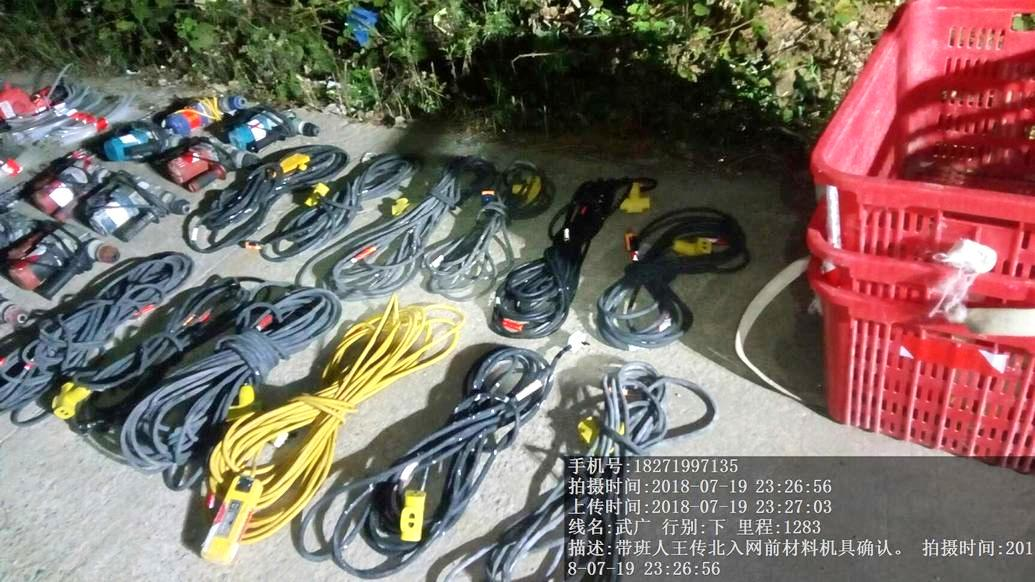DX: (202, 304, 450, 549), (362, 364, 548, 551), (594, 196, 751, 350), (30, 251, 183, 409), (331, 161, 465, 290), (510, 179, 603, 327)
